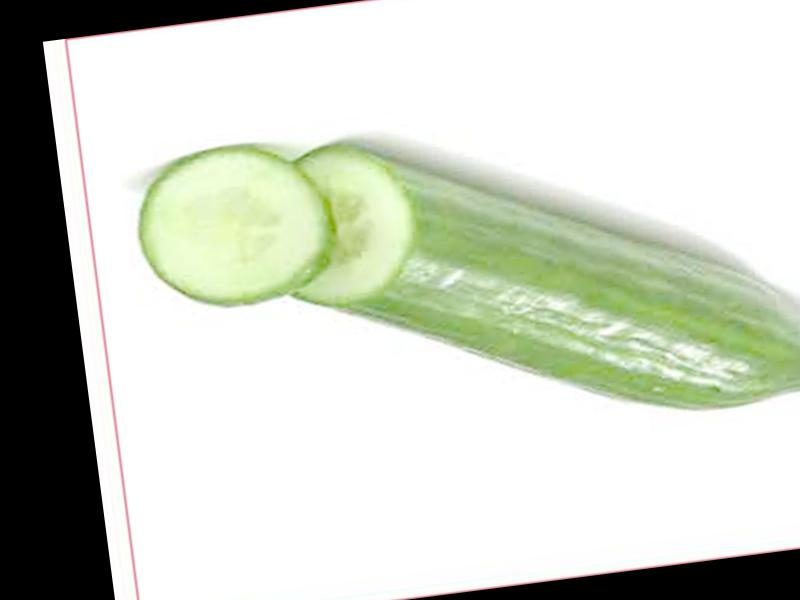Cucumber: (263, 81, 800, 461)
